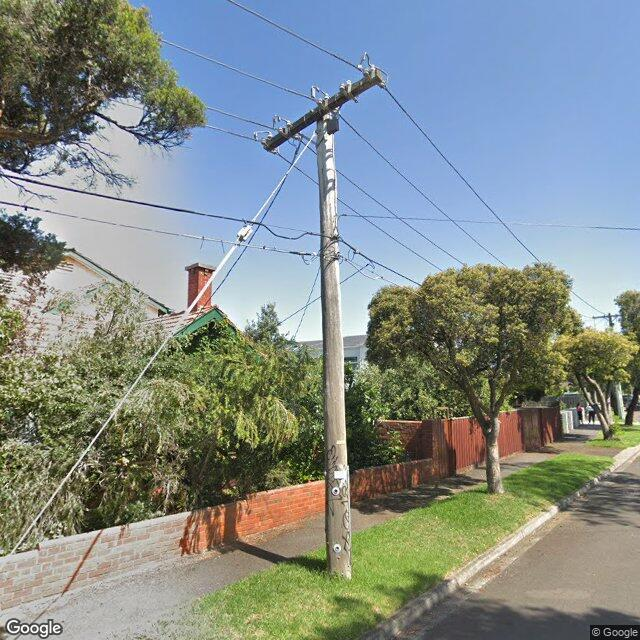crossarm: (265, 68, 383, 151), (592, 313, 623, 319)
timber-pole: (316, 99, 352, 579)
